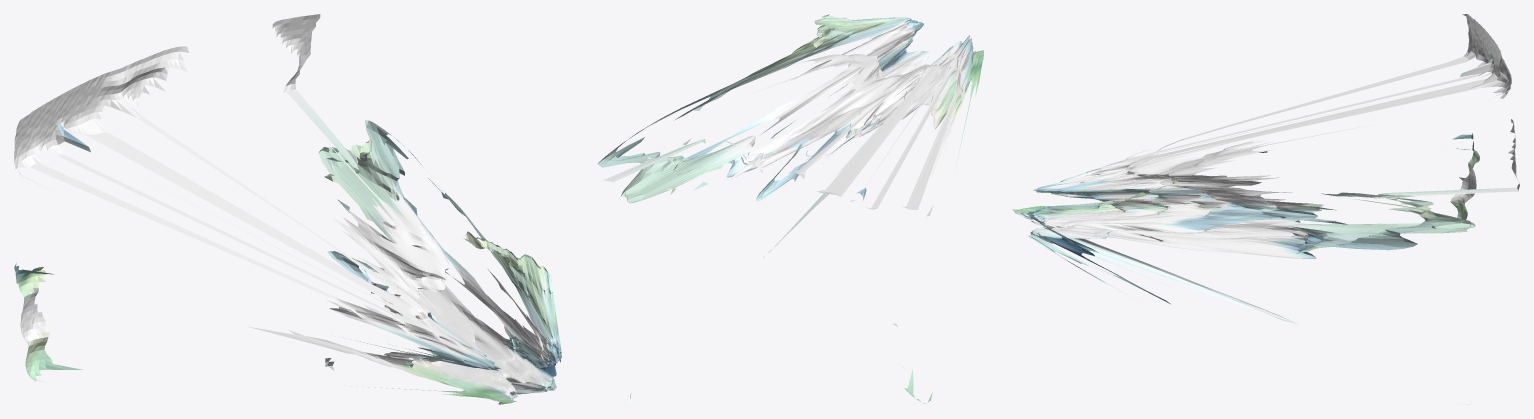
3 views of the same model, side by side, from view 1: azimuth 30°, elevation 25°; view 2: azimuth 150°, elevation 25°; view 3: azimuth 270°, elevation 25° (orthographic). The views are drawn at different scales.
Parts seen in each view (by area): view 1: defaultobject; view 2: defaultobject; view 3: defaultobject.
Boxes of the visible parts, x1=… form: defaultobject: x1=14, y1=14, x2=561, y2=404; defaultobject: x1=597, y1=14, x2=983, y2=404; defaultobject: x1=1012, y1=14, x2=1519, y2=404.
Bounding box in the file's own units: 29.16 × 26.38 × 44.33.
1 material, 1 textured.
